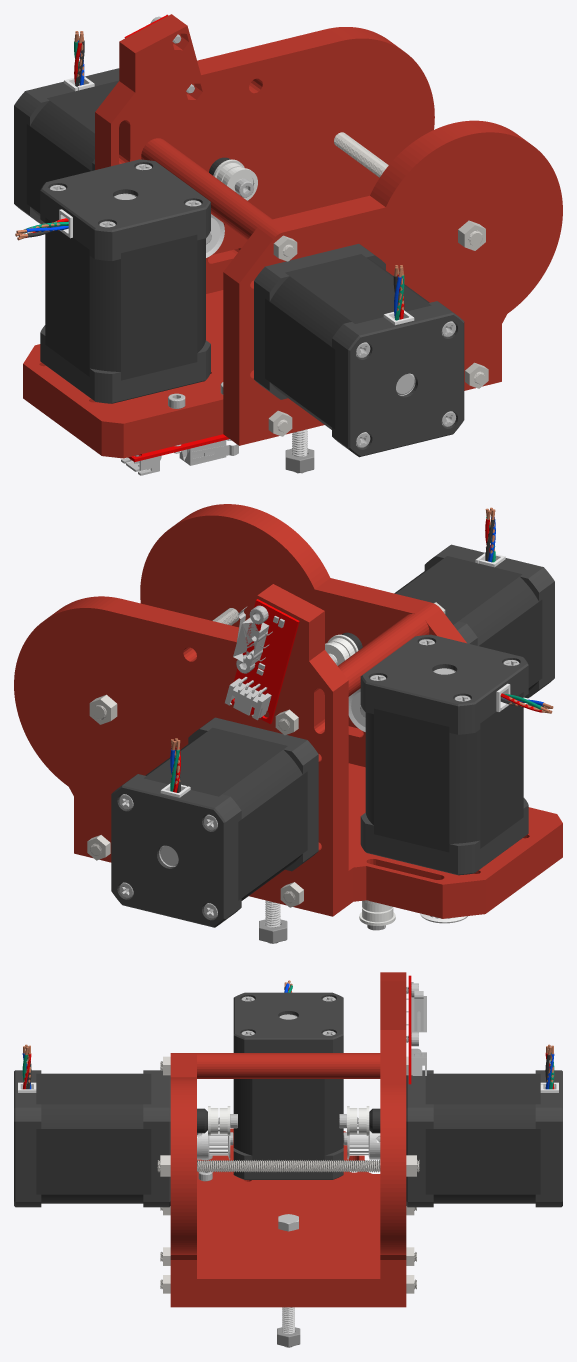
Rendered from motors.dae.
3 views of the same model, one above another, from view 1: azimuth 30°, elevation 25°; view 2: azimuth 150°, elevation 25°; view 3: azimuth 270°, elevation 25° (orthographic). The views are drawn at different scales.
Parts seen in each view (by area): view 1: node2, node14, node53, node70, node72, node8, node51, node34, node50, node13, node69, node32 (+4 smaller); view 2: node2, node14, node53, node32, node34, node8, node51, node72, node50, node31, node107, node70 (+4 smaller); view 3: node8, node72, node34, node2, node53, node14, node51, node13, node32, node70, node69, node31 (+6 smaller).
Part boxes in pixels (x1=…): node2: x1=95, y1=14, x2=434, y2=293; node14: x1=223, y1=120, x2=562, y2=445; node53: x1=45, y1=217, x2=205, y2=380; node70: x1=332, y1=301, x2=464, y2=457; node72: x1=265, y1=254, x2=431, y2=429; node8: x1=23, y1=290, x2=223, y2=458; node51: x1=40, y1=159, x2=210, y2=260; node34: x1=26, y1=80, x2=118, y2=216; node50: x1=40, y1=325, x2=210, y2=403; node13: x1=141, y1=138, x2=272, y2=240; node69: x1=254, y1=243, x2=385, y2=399; node32: x1=14, y1=68, x2=119, y2=224; node2: x1=14, y1=584, x2=348, y2=916; node14: x1=140, y1=504, x2=466, y2=767; node53: x1=365, y1=692, x2=523, y2=852; node32: x1=111, y1=774, x2=241, y2=927; node34: x1=144, y1=727, x2=307, y2=900; node8: x1=348, y1=763, x2=562, y2=918; node51: x1=360, y1=634, x2=528, y2=734; node72: x1=394, y1=556, x2=542, y2=690; node50: x1=360, y1=798, x2=528, y2=875; node31: x1=188, y1=717, x2=318, y2=871; node107: x1=231, y1=599, x2=299, y2=723; node70: x1=424, y1=544, x2=554, y2=698; node8: x1=197, y1=1128, x2=380, y2=1307; node72: x1=36, y1=1073, x2=151, y2=1203; node34: x1=425, y1=1073, x2=540, y2=1203; node2: x1=380, y1=972, x2=406, y2=1307; node53: x1=233, y1=1079, x2=343, y2=1160; node14: x1=170, y1=1053, x2=196, y2=1307; node51: x1=233, y1=992, x2=343, y2=1052; node13: x1=197, y1=1053, x2=380, y2=1078; node32: x1=535, y1=1070, x2=562, y2=1207; node70: x1=14, y1=1070, x2=41, y2=1207; node69: x1=143, y1=1070, x2=170, y2=1207; node31: x1=406, y1=1070, x2=433, y2=1207.
Size of the model in its own units: 0.171 by 0.2101 by 0.1442.
